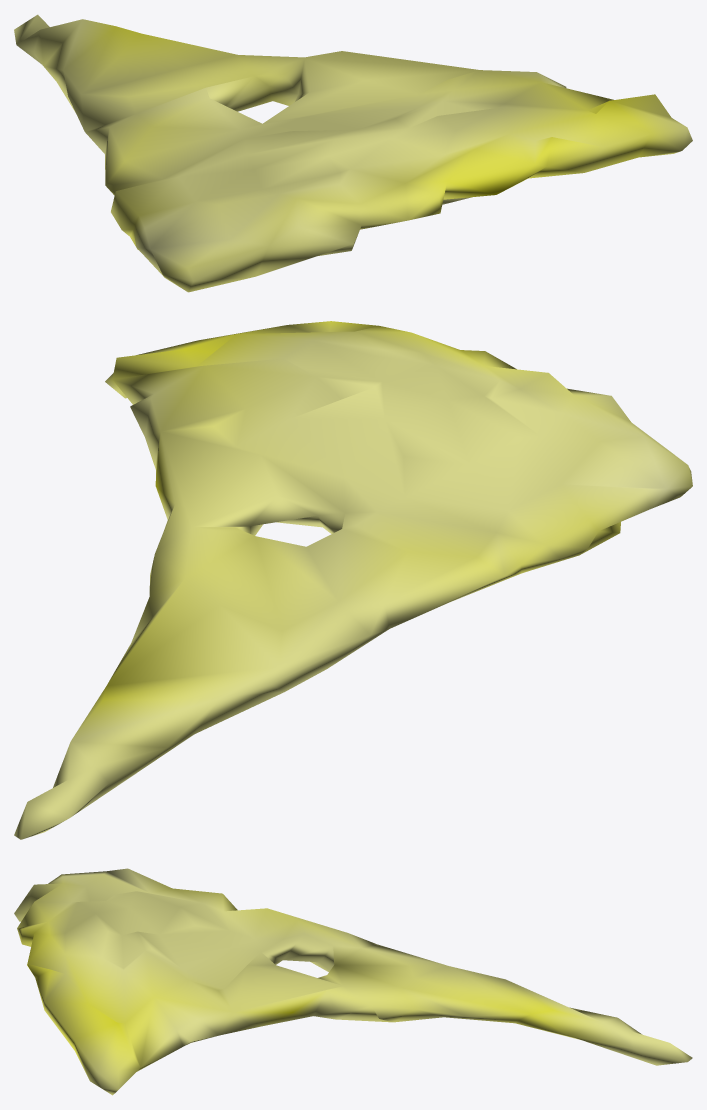
The picture shows the model from 3 angles, top to bottom: view 1: azimuth 30°, elevation 25°; view 2: azimuth 150°, elevation 25°; view 3: azimuth 270°, elevation 25°; orthographic projection. The views are drawn at different scales.
Visible parts, largest first — view 1: LOD 4_12822544702743451033_820756dedd5b3434c8e6bed8ae6a193b; view 2: LOD 4_12822544702743451033_820756dedd5b3434c8e6bed8ae6a193b; view 3: LOD 4_12822544702743451033_820756dedd5b3434c8e6bed8ae6a193b.
Boxes of the visible parts, bbox=[...] form: LOD 4_12822544702743451033_820756dedd5b3434c8e6bed8ae6a193b: bbox=[14, 14, 692, 292]; LOD 4_12822544702743451033_820756dedd5b3434c8e6bed8ae6a193b: bbox=[14, 321, 692, 839]; LOD 4_12822544702743451033_820756dedd5b3434c8e6bed8ae6a193b: bbox=[14, 868, 692, 1095].
Size of the model in its own units: 3.1 by 1.05 by 4.35.
